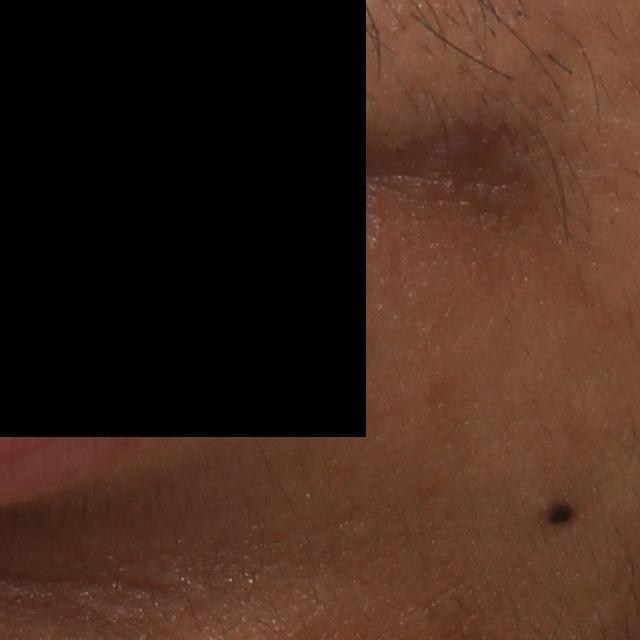atrophic_scar: (399, 129, 531, 222)
nevus: (538, 491, 575, 531)
